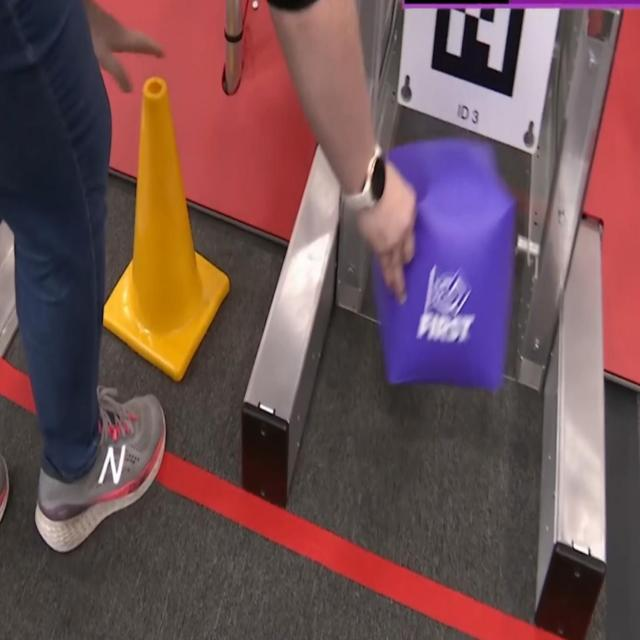frc_cone: (97, 78, 229, 384)
frc_cube: (370, 138, 512, 392)
